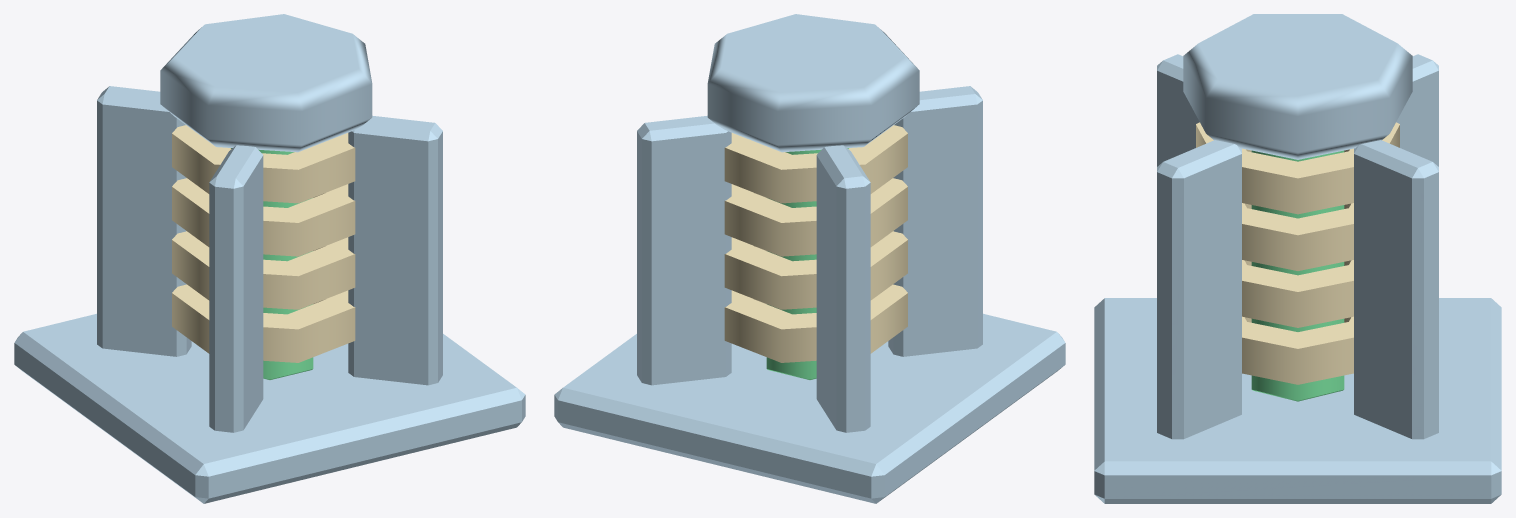
Rendered from R4X_EnergyRegenerator_LOD1.glb.
3 renders of one model, left to right at view 1: azimuth 30°, elevation 25°; view 2: azimuth 150°, elevation 25°; view 3: azimuth 270°, elevation 25°, orthographic. The views are drawn at different scales.
Visible parts, largest first — view 1: R4X_EnergyRegenerator_LOD1; view 2: R4X_EnergyRegenerator_LOD1; view 3: R4X_EnergyRegenerator_LOD1.
Boxes of the visible parts, box(x1,y1,x2,y2) form: R4X_EnergyRegenerator_LOD1: box(14, 14, 525, 503); R4X_EnergyRegenerator_LOD1: box(554, 14, 1065, 503); R4X_EnergyRegenerator_LOD1: box(1094, 14, 1501, 503).
Bounding box in the file's own units: 0.52 × 0.52 × 0.52.
